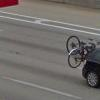Bicycle: (59, 29, 95, 69)
